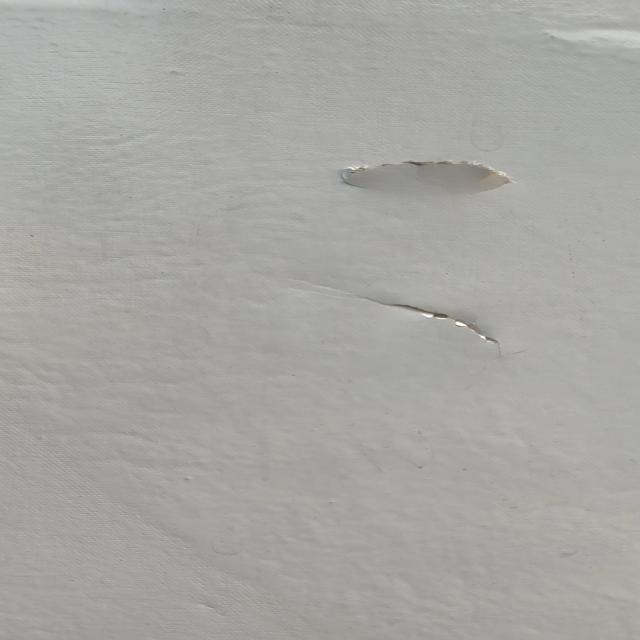Scratches: (301, 277, 543, 358), (313, 135, 545, 207)
